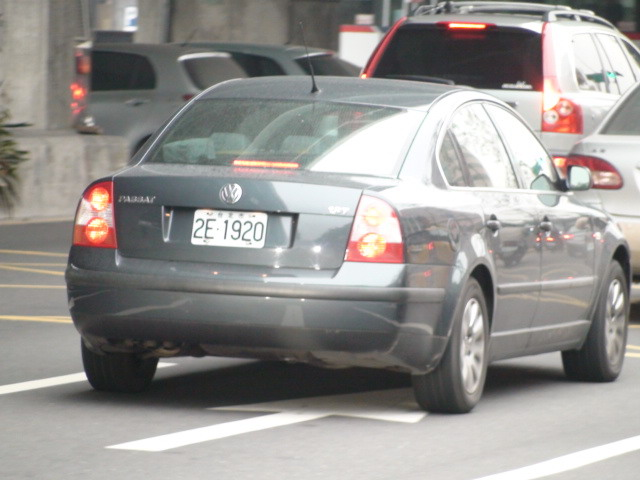plate: (191, 205, 269, 251)
